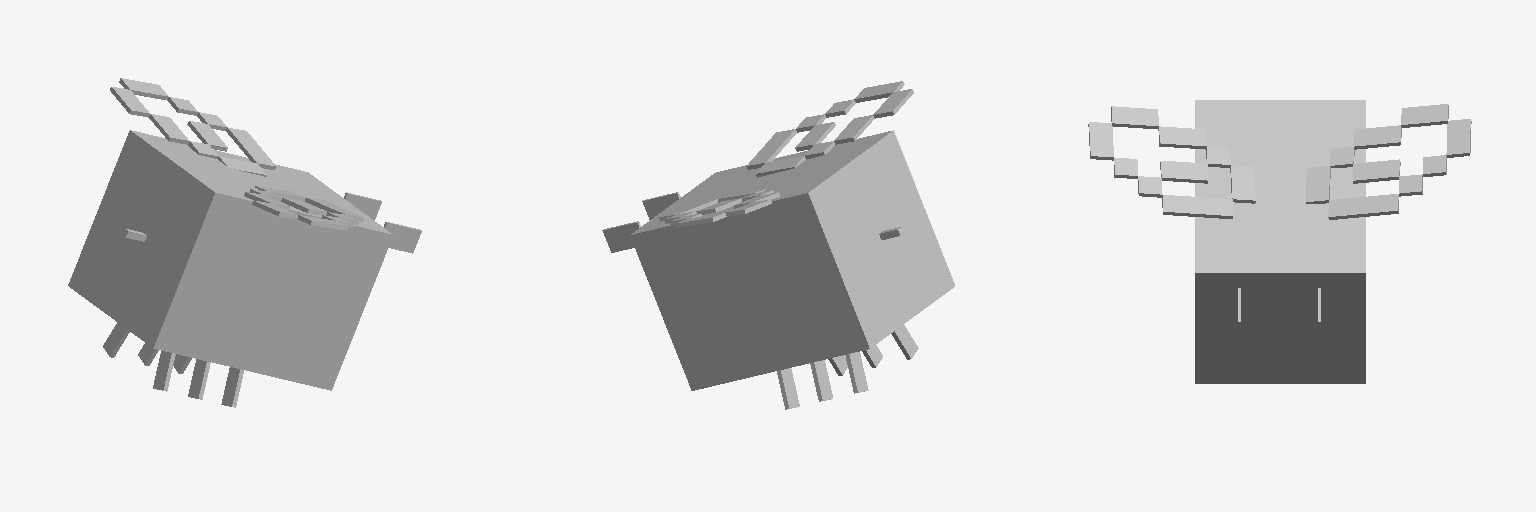
Rendered from Bee_ (198).obj.
3 renders of one model, left to right at view 1: azimuth 30°, elevation 25°; view 2: azimuth 150°, elevation 25°; view 3: azimuth 270°, elevation 25°, orthographic.
Parts seen in each view (by area): view 1: b_Bee_MAT_0, r_Bee_MAT_0, l_Bee_MAT_0; view 2: b_Bee_MAT_0, l_Bee_MAT_0, r_Bee_MAT_0; view 3: b_Bee_MAT_0, l_Bee_MAT_0, r_Bee_MAT_0.
Part boxes in pixels (bbox=[...]): b_Bee_MAT_0: bbox=[68, 130, 421, 407]; r_Bee_MAT_0: bbox=[110, 78, 276, 176]; l_Bee_MAT_0: bbox=[244, 186, 363, 230]; b_Bee_MAT_0: bbox=[602, 130, 954, 409]; l_Bee_MAT_0: bbox=[746, 81, 913, 177]; r_Bee_MAT_0: bbox=[659, 188, 779, 227]; b_Bee_MAT_0: bbox=[1195, 100, 1365, 383]; l_Bee_MAT_0: bbox=[1088, 106, 1255, 218]; r_Bee_MAT_0: bbox=[1306, 104, 1471, 219].
Size of the model in its own units: 0.3075 by 0.2484 by 0.3515.